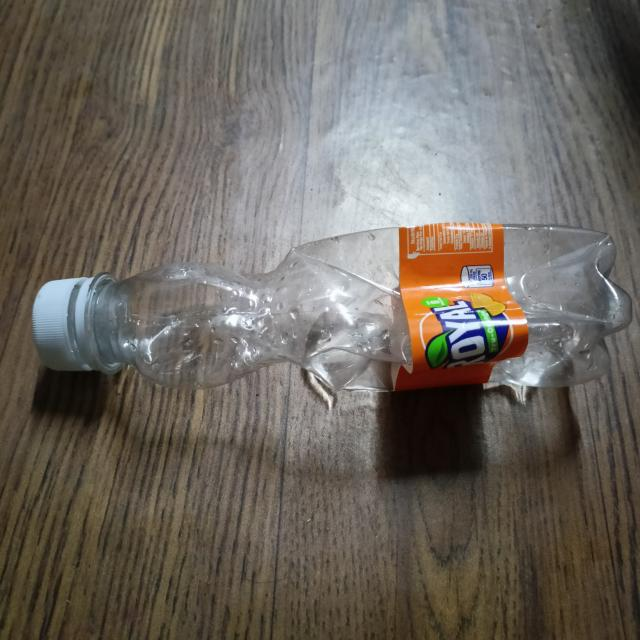Bottle: (32, 223, 632, 392)
